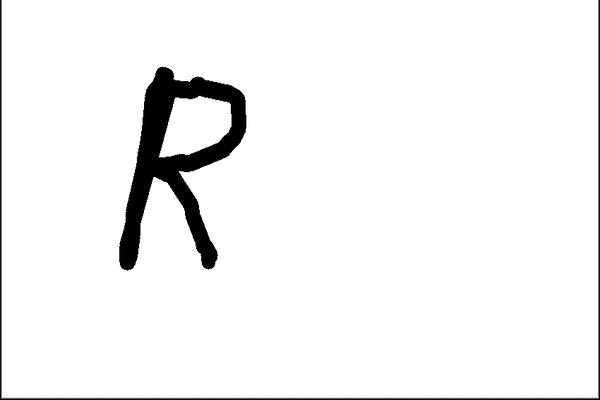R: (116, 57, 250, 268)
